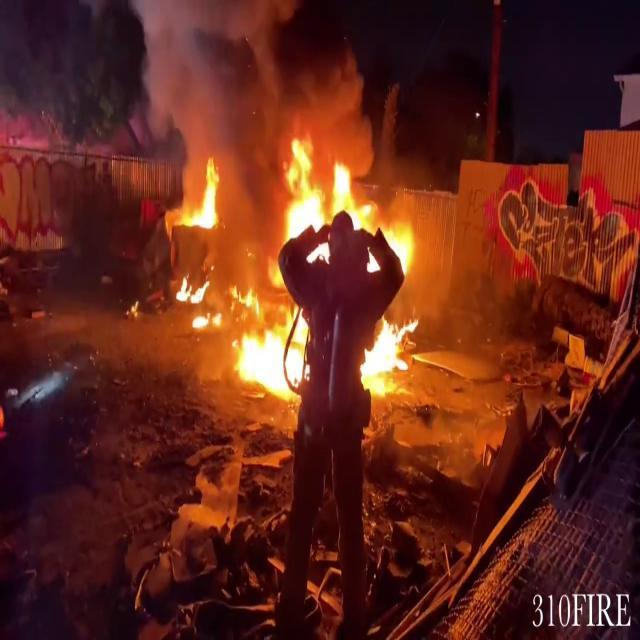Fire: (176, 128, 426, 396), (354, 311, 424, 398), (178, 156, 224, 234)
Smoke: (116, 0, 352, 159)
